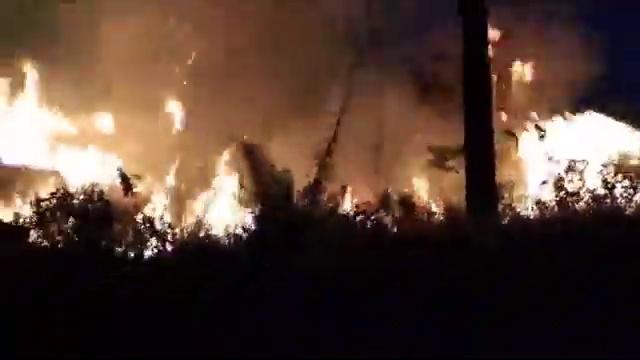fire: (522, 117, 619, 197), (1, 85, 65, 160), (202, 186, 247, 236), (68, 151, 116, 185)
